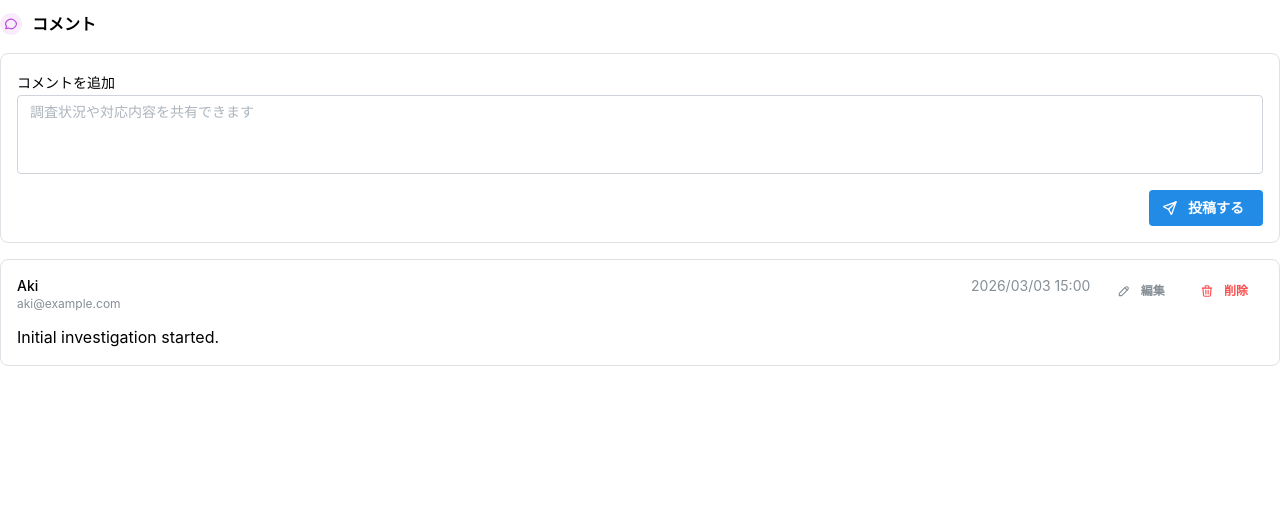
Scenario: TicketCommentsPanel › restores the original comment body when reopening inline edit
Click the button with aria-label "コメント 101 を編集": (1143, 291) [1106, 276, 1180, 306]
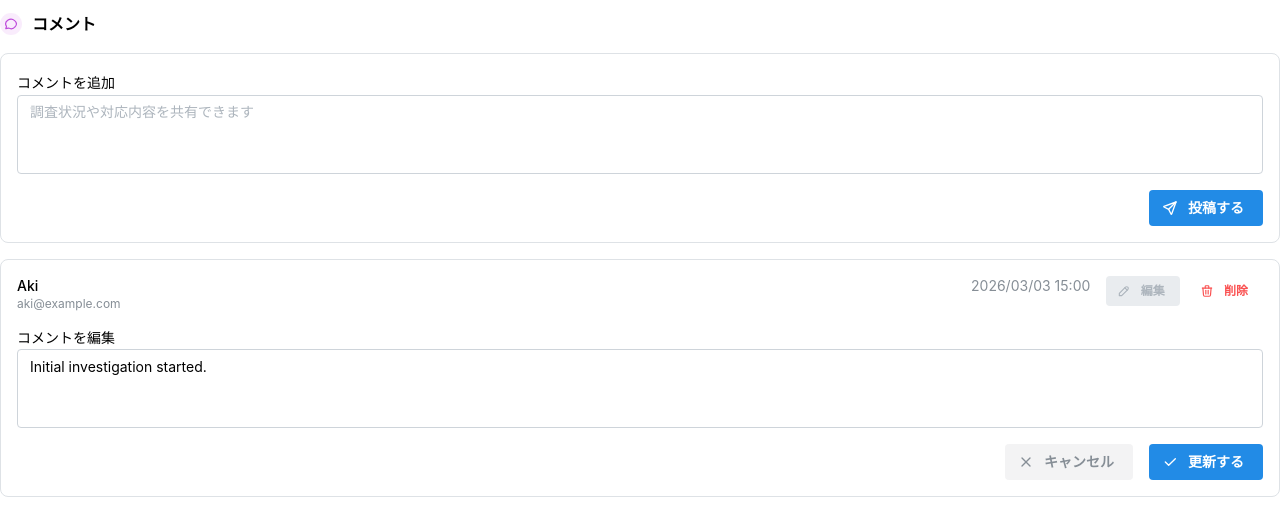
Expected: the text box labelled "コメントを編集" holds "Initial investigation started."
Replace the text in the text box labelled "コメントを編集" with "Draft update that should be discarded.": (640, 389) [17, 350, 1263, 428]
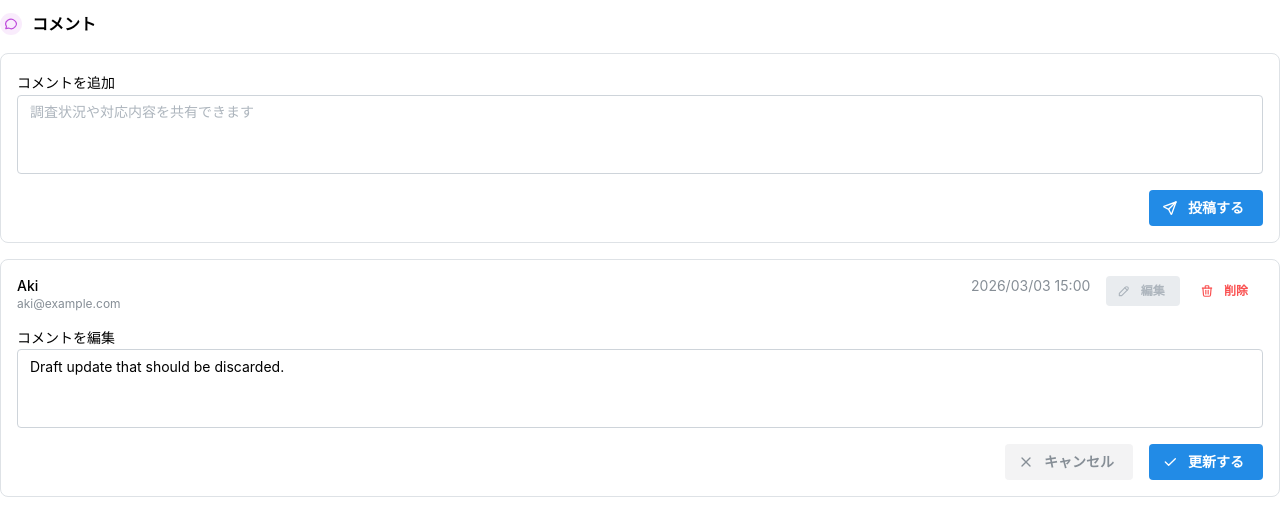
Click the button "キャンセル": (1069, 462) [1005, 444, 1133, 480]
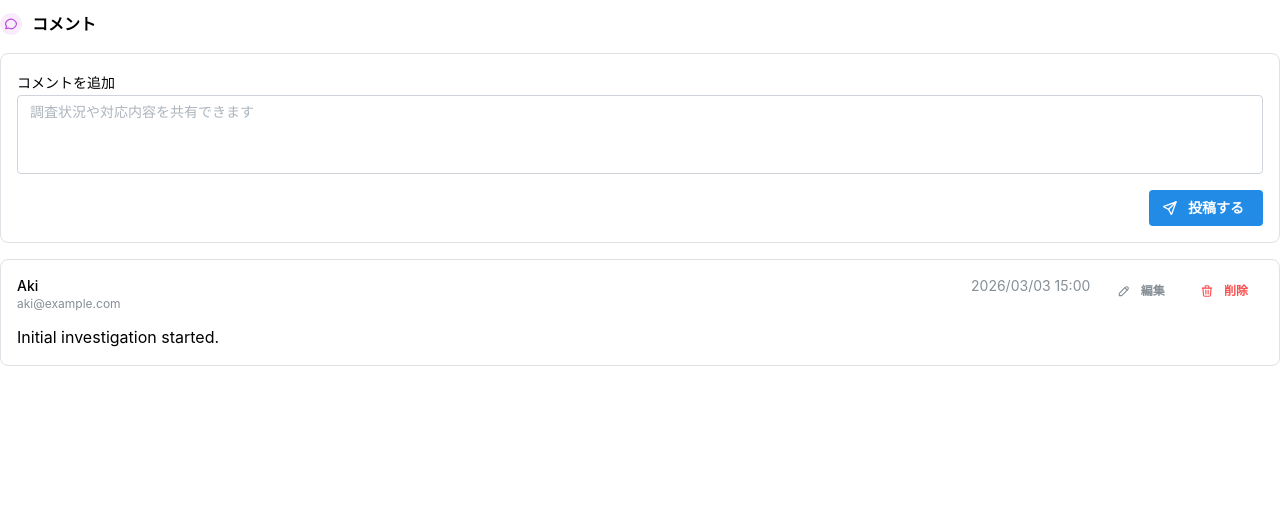
Click the button with aria-label "コメント 101 を編集": (1143, 291) [1106, 276, 1180, 306]
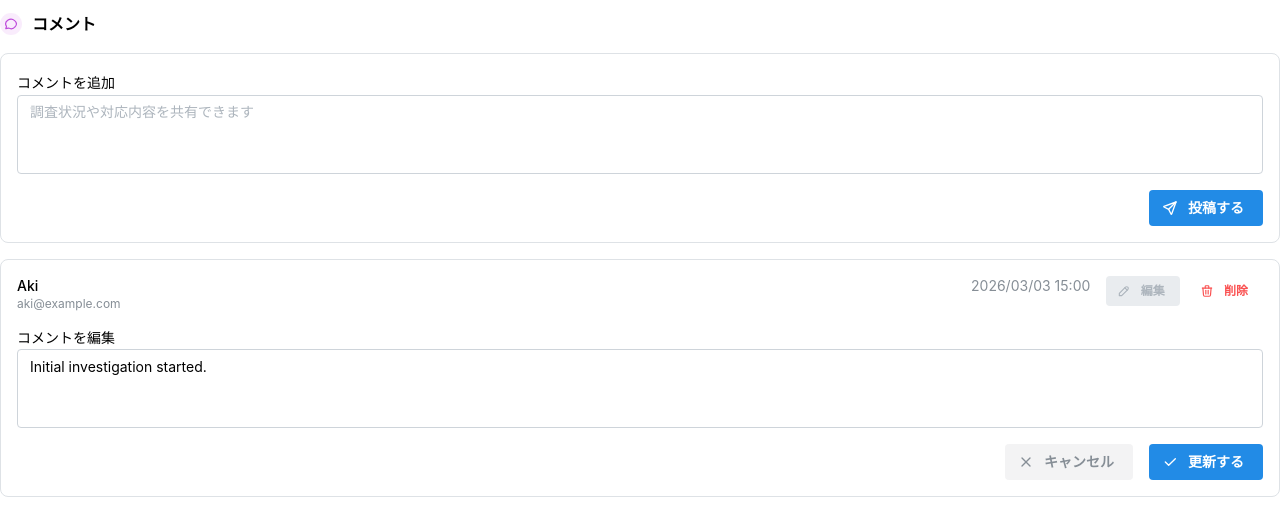
Expected: the text box labelled "コメントを編集" holds "Initial investigation started.", [17, 350, 1263, 428]
